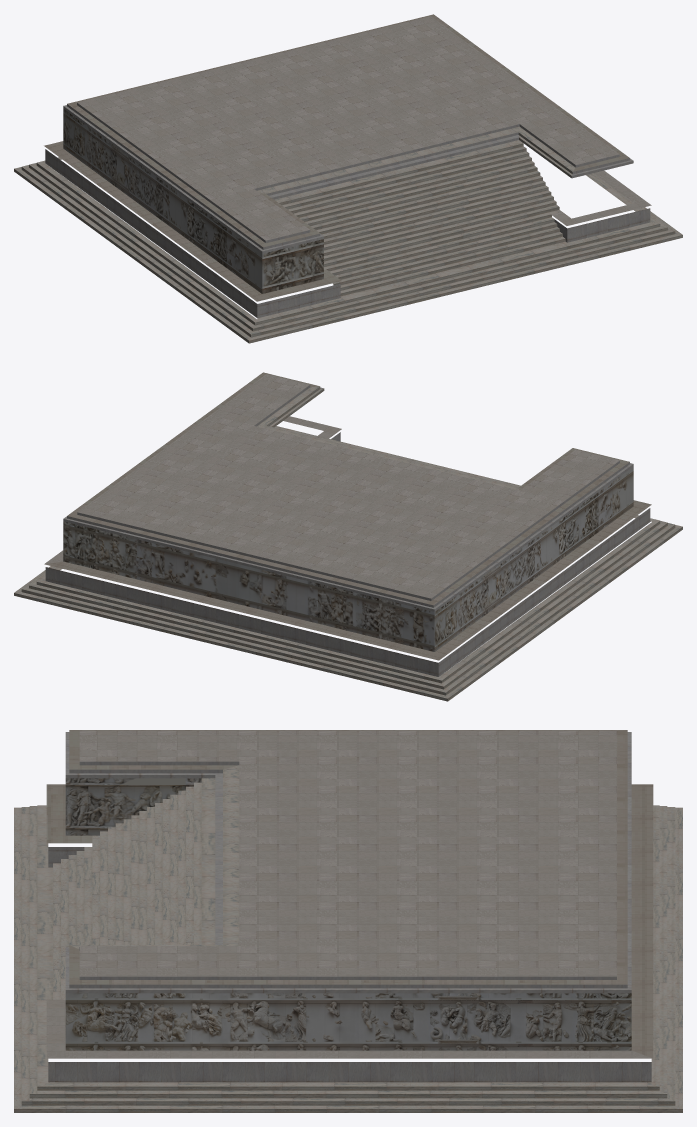
Rendered from sockel.glb.
3 renders of one model, top to bottom at view 1: azimuth 30°, elevation 25°; view 2: azimuth 150°, elevation 25°; view 3: azimuth 270°, elevation 25°, orthographic. The views are drawn at different scales.
Visible parts, largest first — view 1: Empty; view 2: Empty; view 3: Empty.
Part boxes in pixels (x1,y1,x2,y2): Empty: (14, 14, 682, 343); Empty: (14, 372, 682, 701); Empty: (14, 730, 682, 1112).
Bounding box in the file's own units: 36.44 × 6.12 × 34.2.
10 materials, 10 textured.
